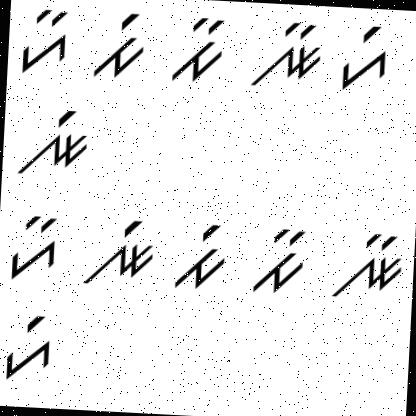han: (5, 204, 63, 280), (16, 2, 70, 75)
hang: (0, 310, 58, 386), (336, 23, 391, 94)
mban: (160, 13, 230, 84), (247, 225, 308, 301)
mbang: (170, 216, 230, 294), (84, 8, 148, 80)
ndan: (330, 224, 408, 304), (249, 18, 326, 93)
ndang: (79, 206, 159, 288), (12, 98, 90, 178)
